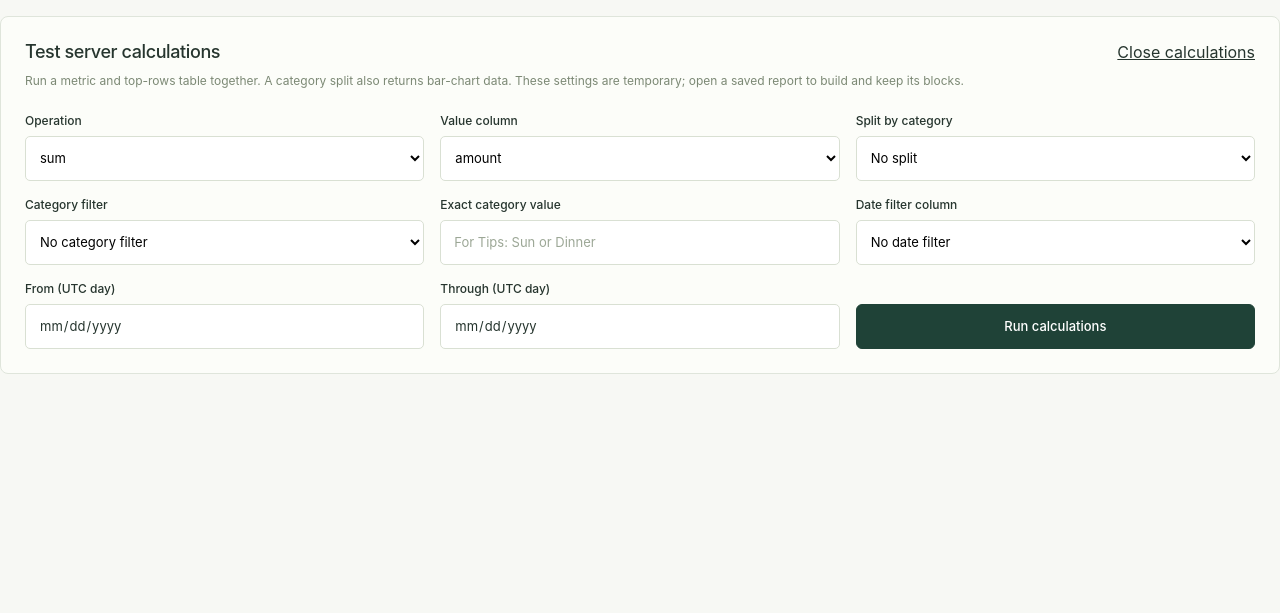
Test: shows server failures and permits retry
Click the button "Run calculations".
click(1055, 326)  # box left=856, top=304, right=1255, bottom=349
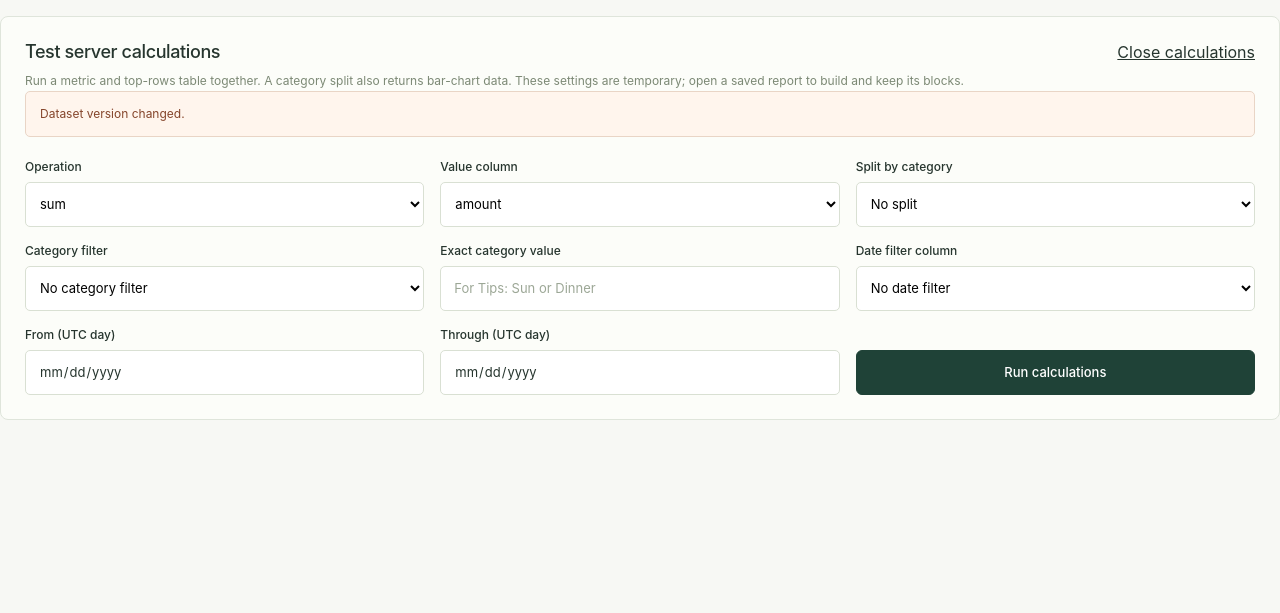
Check: the text "Dataset version changed." is shown, box left=25, top=91, right=1255, bottom=137
Click the button "Run calculations".
click(1055, 372)  # box left=856, top=350, right=1255, bottom=395
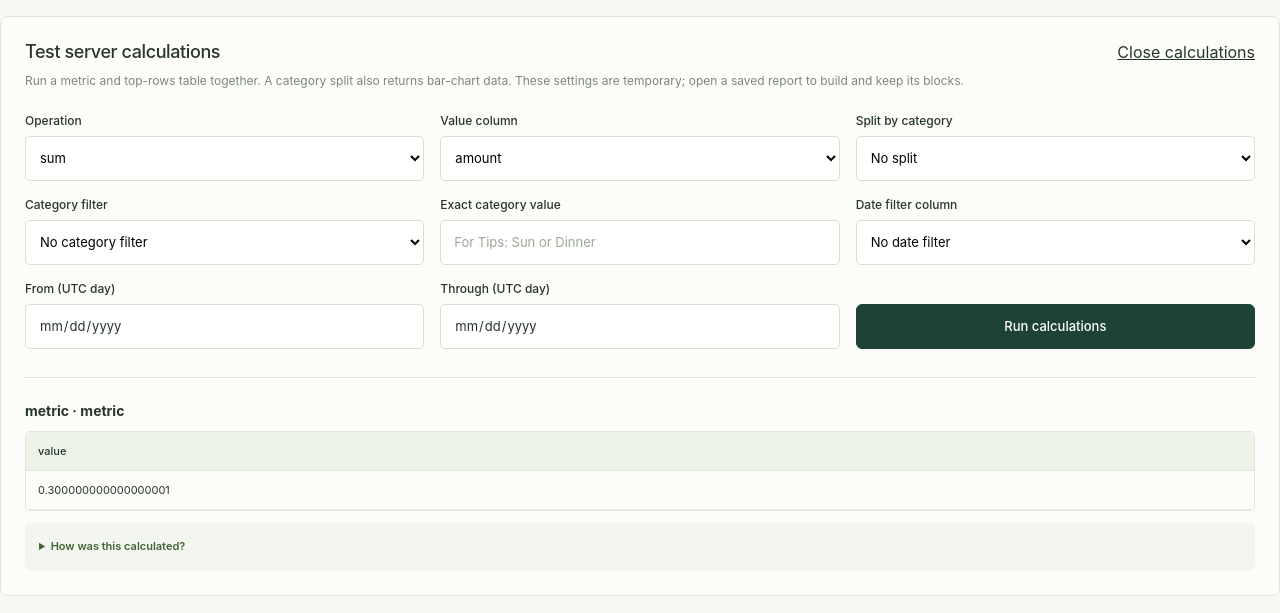
Check: the text "0.300000000000000001" is shown, box left=26, top=470, right=1254, bottom=509
